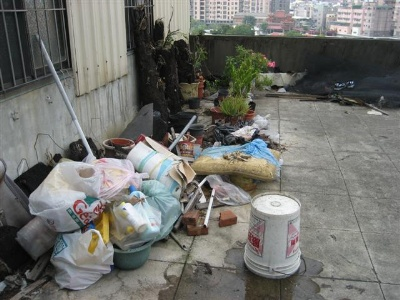bottle: (179, 139, 194, 159)
bowl: (189, 123, 206, 137), (188, 97, 201, 108)
bucket: (244, 191, 302, 280), (127, 140, 162, 173)
plastic_bag: (28, 162, 100, 233), (49, 230, 112, 291), (109, 191, 162, 251), (91, 157, 132, 198), (203, 140, 273, 160), (209, 174, 251, 204), (211, 123, 236, 145)
